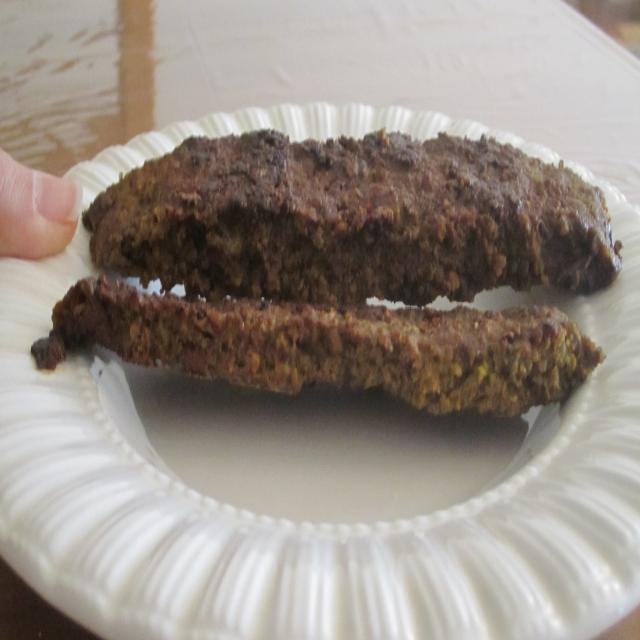cutlet: (75, 128, 628, 426)
